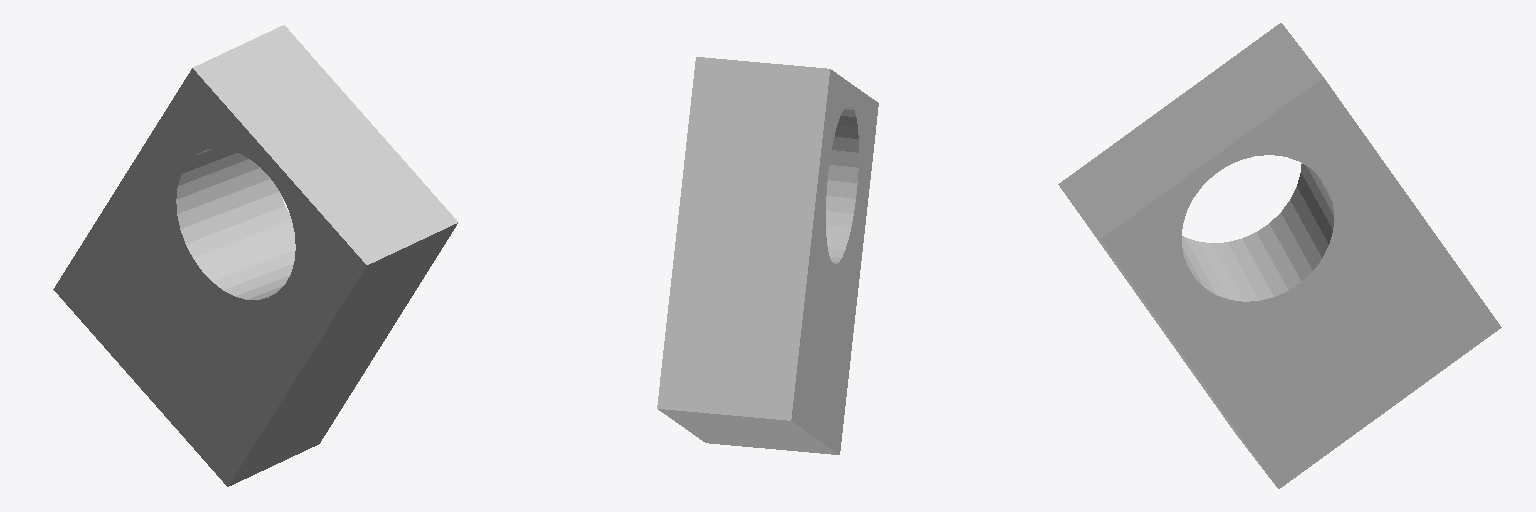
File: Ornament hole.obj
The picture shows the model from 3 angles: view 1: azimuth 30°, elevation 25°; view 2: azimuth 150°, elevation 25°; view 3: azimuth 270°, elevation 25°; orthographic projection.
Bounding box in the file's own units: 0.1465 × 0.2516 × 0.2491.